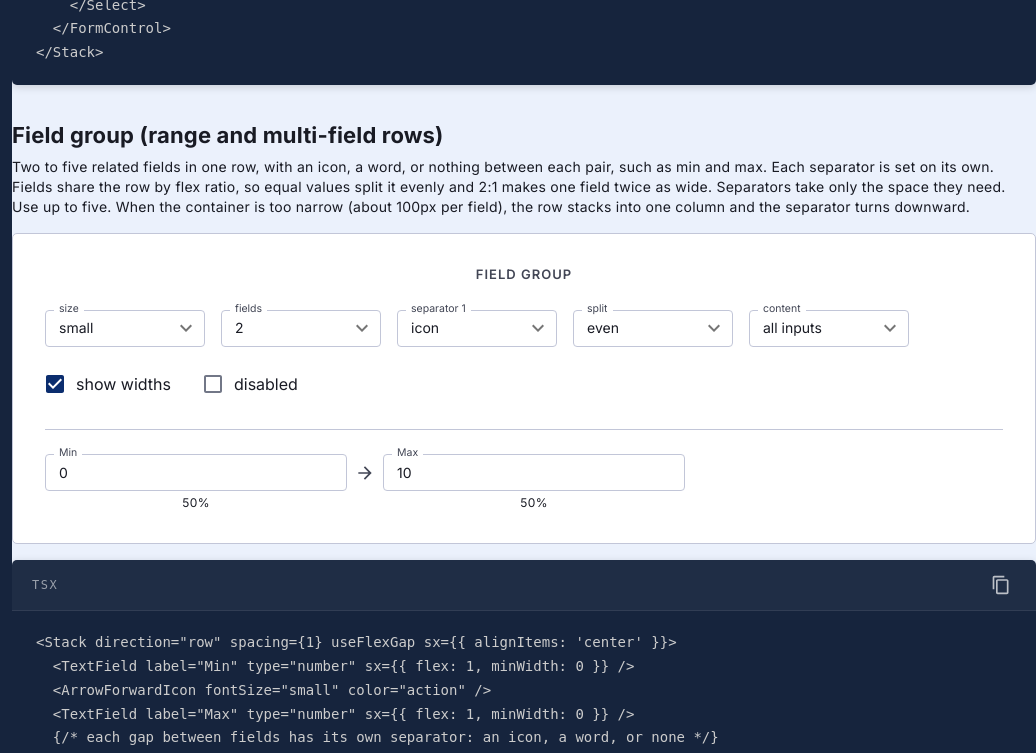
Scenario: GroupedInputsDemo › hides the width readout when show widths is off
(page scrolled)
Expected: the text "50%" is shown 2 times, [182,495,210,510]; [520,495,548,510]
Click the checkbox labelled "show widths" at (107, 384), box [43,372,171,396]
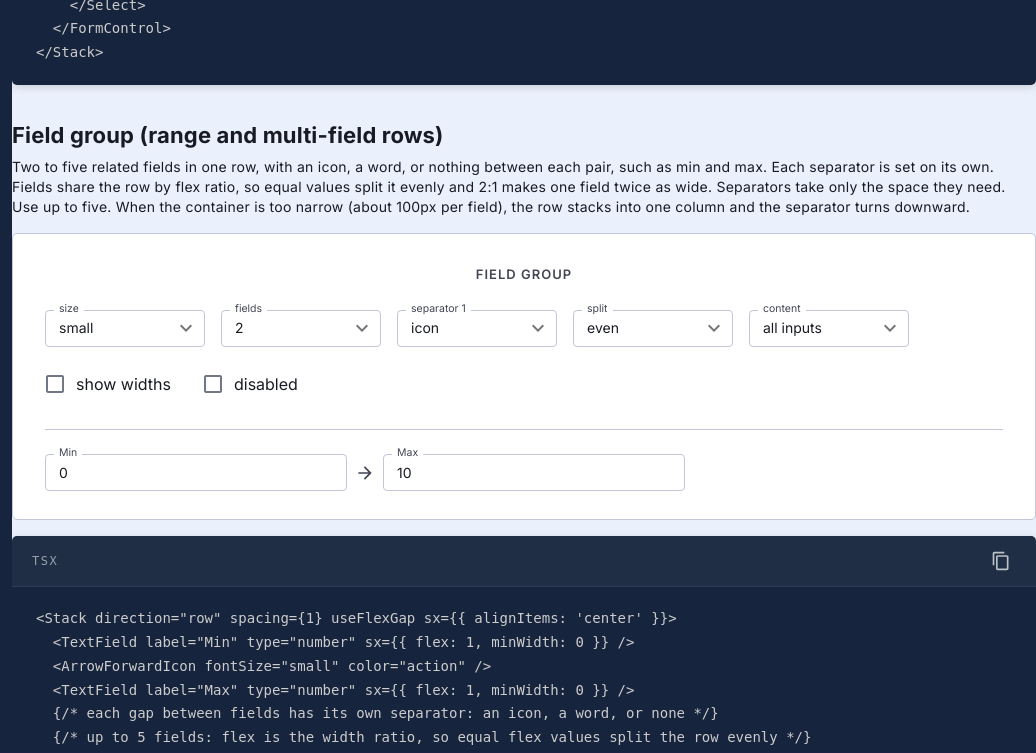
Now the text "50%" is gone
